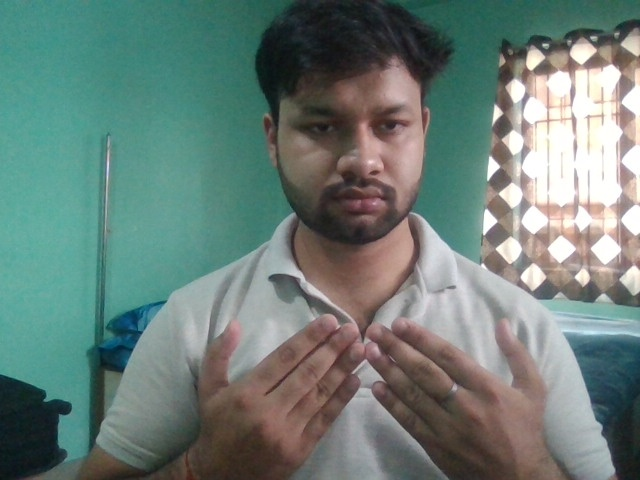Thank You: (191, 314, 553, 480)
